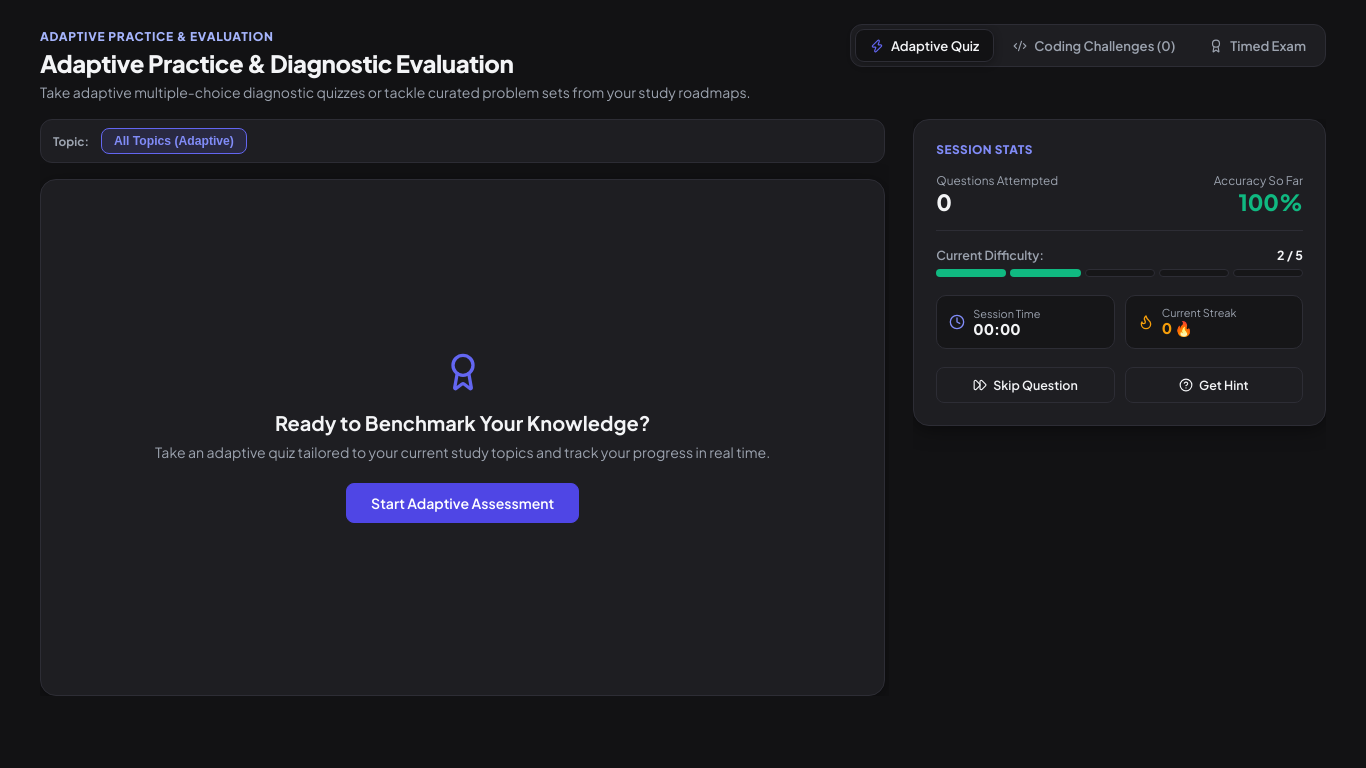
Test: actual loading states and primitive render inventory › shows generating exam state and disables repeated generation
Click the button "Timed Exam": x=1258, y=46 left=1194, top=29, right=1321, bottom=62
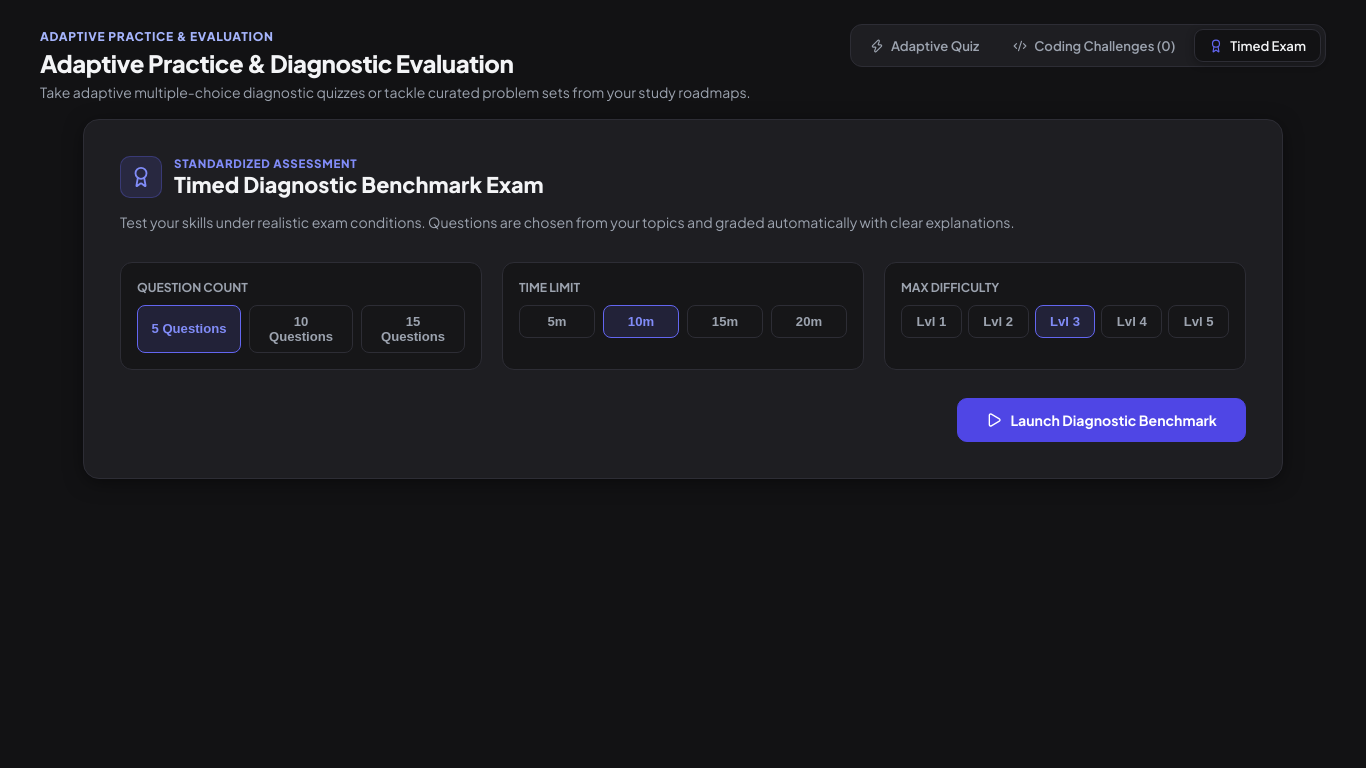
Click the button "Launch Diagnostic Benchmark": x=1102, y=420 left=957, top=398, right=1246, bottom=442
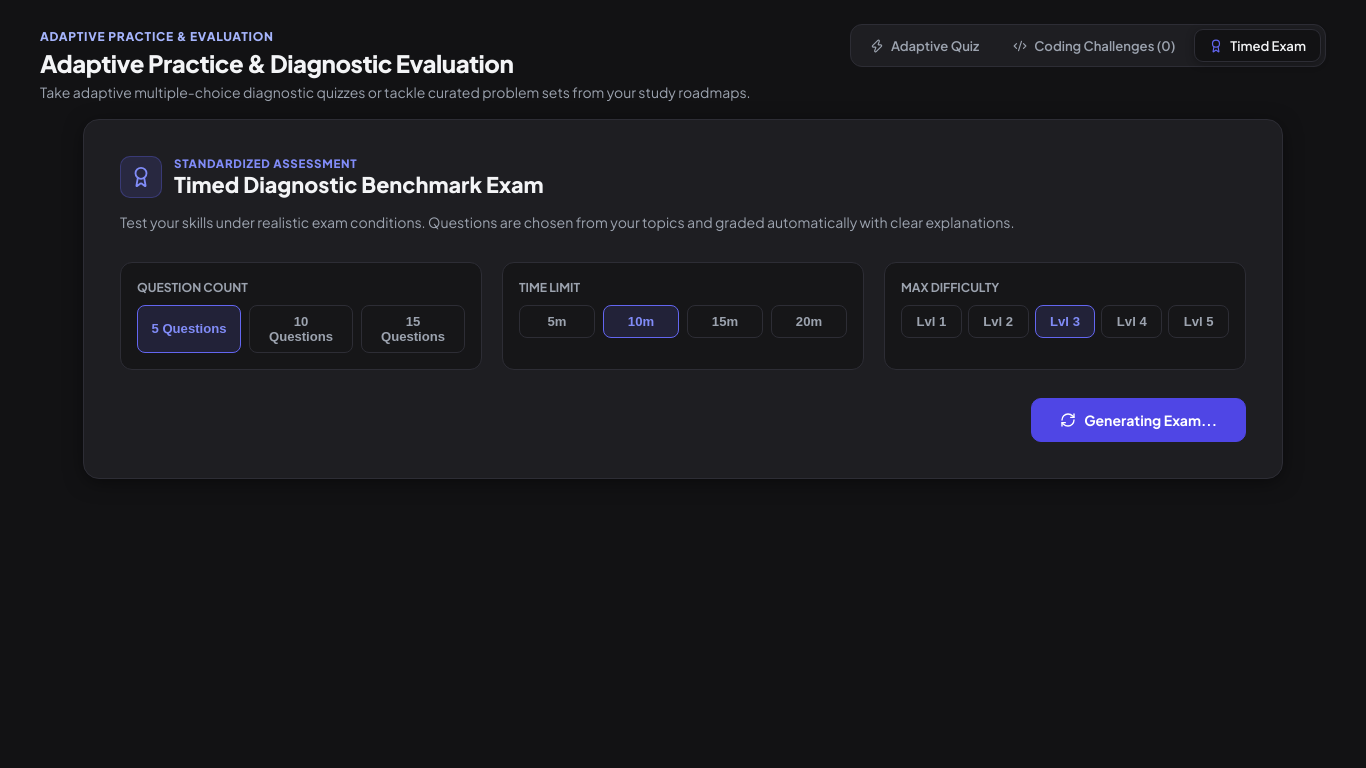
Expected: the button "Generating Exam..." is disabled, left=1031, top=398, right=1246, bottom=442
